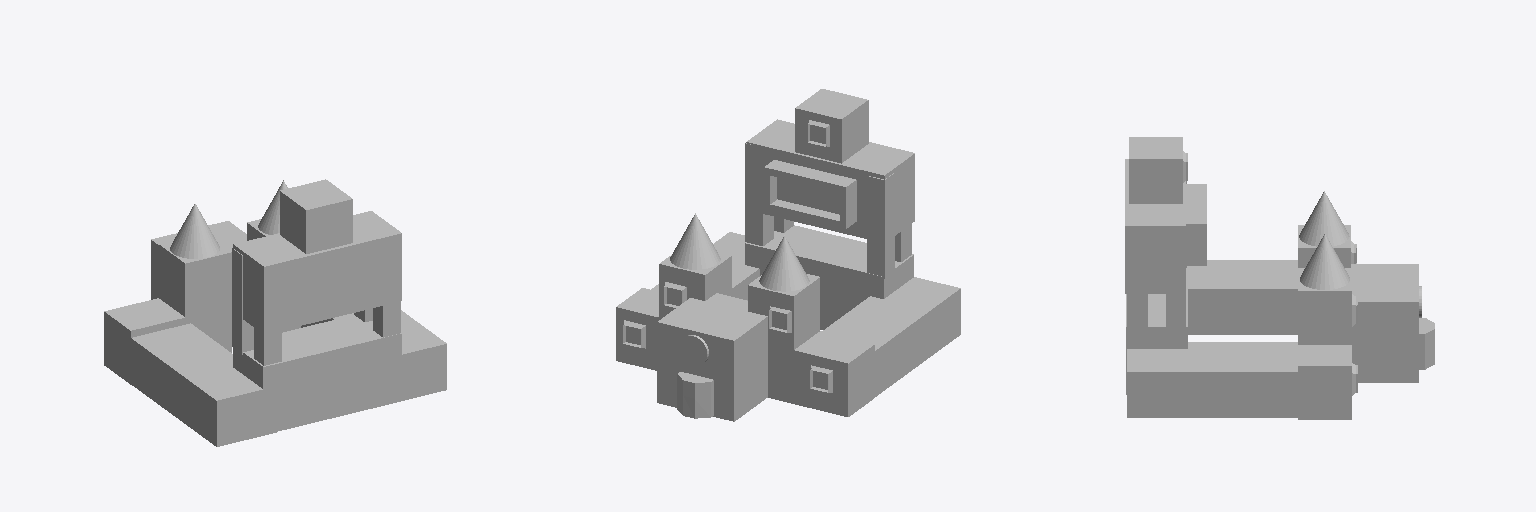
File: universitet.obj
3 views of the same model, side by side, from view 1: azimuth 30°, elevation 25°; view 2: azimuth 150°, elevation 25°; view 3: azimuth 270°, elevation 25° (orthographic).
Size of the model in its own units: 25.95 by 22.85 by 30.07.